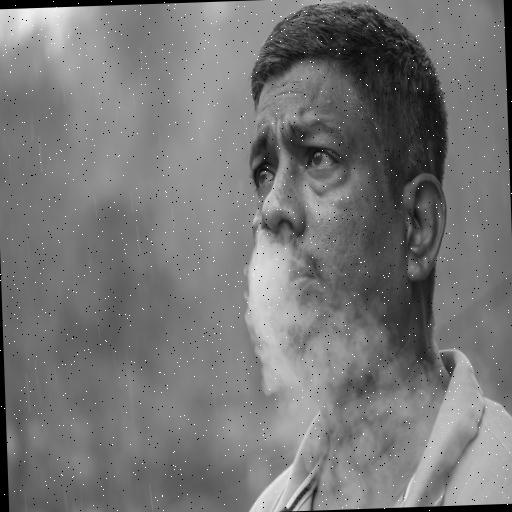asap rokok: (219, 106, 352, 374)
